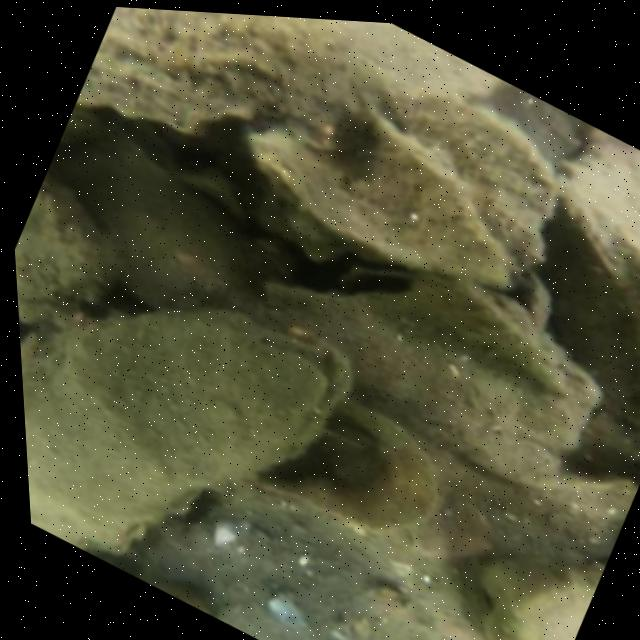Oyster-Closed: (20, 312, 355, 562), (248, 129, 548, 315)
Oyster-Indeterminate: (260, 278, 595, 490), (133, 509, 455, 640), (128, 8, 375, 144), (386, 83, 556, 279), (71, 140, 258, 306), (246, 392, 440, 537), (553, 175, 640, 467), (418, 271, 574, 395), (15, 169, 115, 317), (565, 150, 640, 232)
